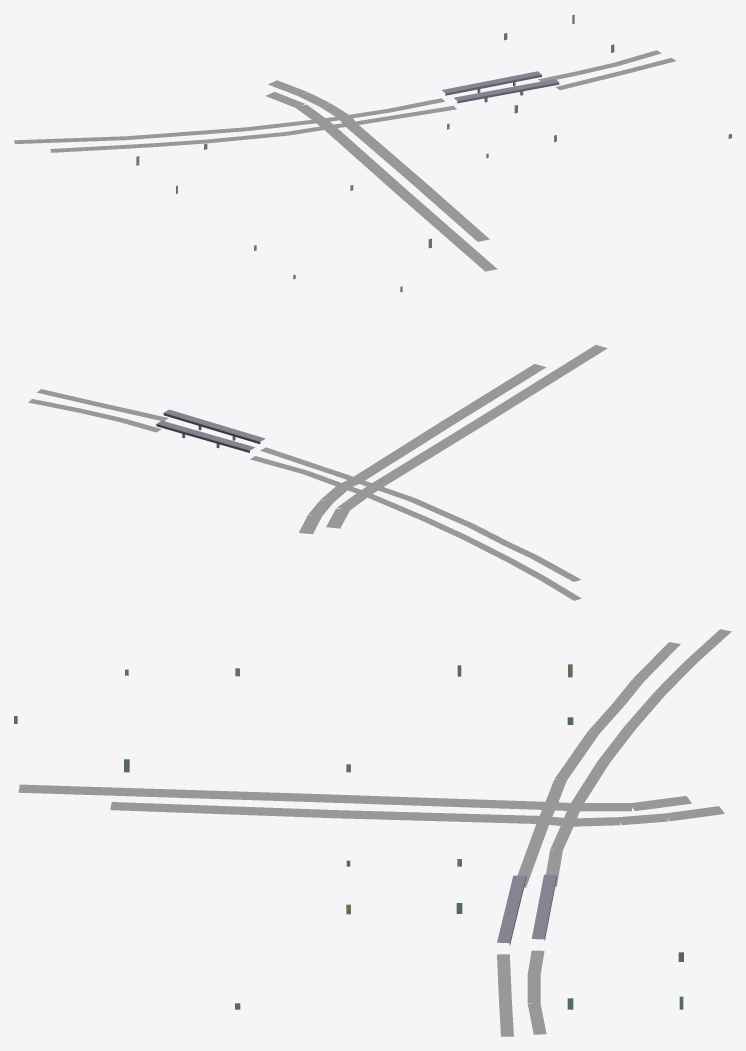
3 renders of one model, top to bottom at view 1: azimuth 30°, elevation 25°; view 2: azimuth 150°, elevation 25°; view 3: azimuth 270°, elevation 25°, orthographic. The views are drawn at different scales.
Size of the model in its own units: 517 by 10.32 by 388.
